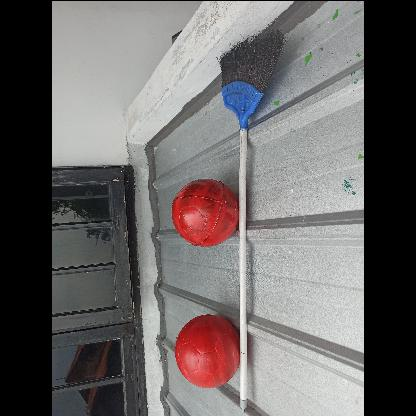red_ball: (174, 316, 244, 388), (169, 178, 239, 248)
